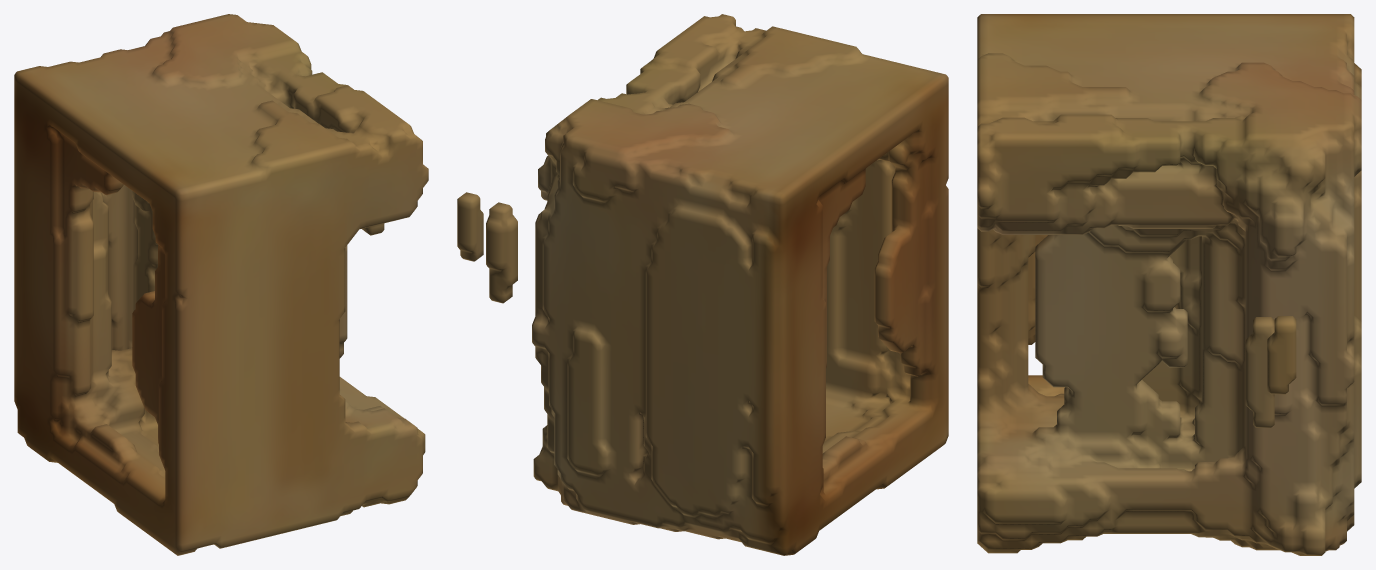
Rendered from A brown arm chair with wide cushioned seating..glb.
3 views of the same model, side by side, from view 1: azimuth 30°, elevation 25°; view 2: azimuth 150°, elevation 25°; view 3: azimuth 270°, elevation 25° (orthographic). The views are drawn at different scales.
Parts seen in each view (by area): view 1: A brown arm chair with wide cushioned seating.; view 2: A brown arm chair with wide cushioned seating.; view 3: A brown arm chair with wide cushioned seating..
Boxes of the visible parts, x1=… form: A brown arm chair with wide cushioned seating.: x1=14, y1=14, x2=428, y2=555; A brown arm chair with wide cushioned seating.: x1=457, y1=14, x2=948, y2=555; A brown arm chair with wide cushioned seating.: x1=977, y1=14, x2=1361, y2=555.
Bounding box in the file's own units: 63 × 64 × 53.
